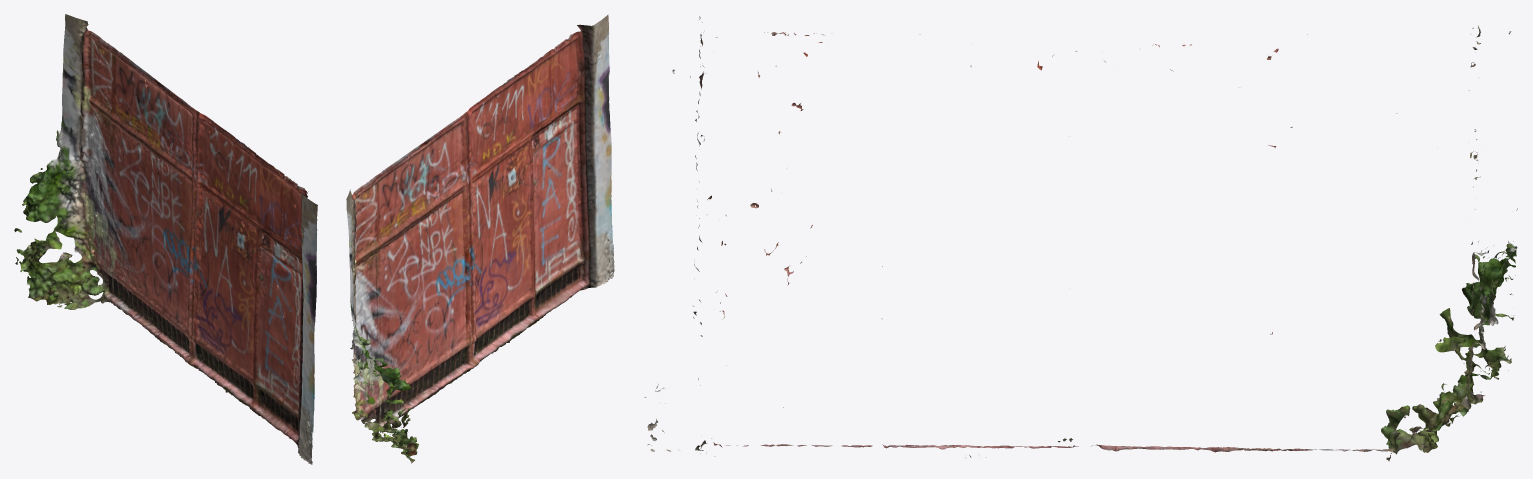
Rendered from Rusty Gate with Graffiti.glb.
3 renders of one model, left to right at view 1: azimuth 30°, elevation 25°; view 2: azimuth 150°, elevation 25°; view 3: azimuth 270°, elevation 25°, orthographic. The views are drawn at different scales.
Visible parts, largest first — view 1: Mesh_0; view 2: Mesh_0; view 3: Mesh_0.
Part boxes in pixels (box(x1,y1,x2,y2)): Mesh_0: box(14, 14, 317, 464); Mesh_0: box(346, 14, 614, 463); Mesh_0: box(644, 16, 1517, 461).
Bounding box in the file's own units: 0.5423 × 2.15 × 3.83.
Materials: 1 (1 with a texture image).
